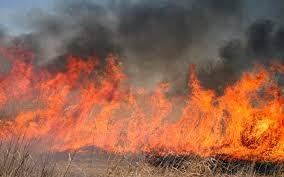fire: (14, 52, 284, 159)
